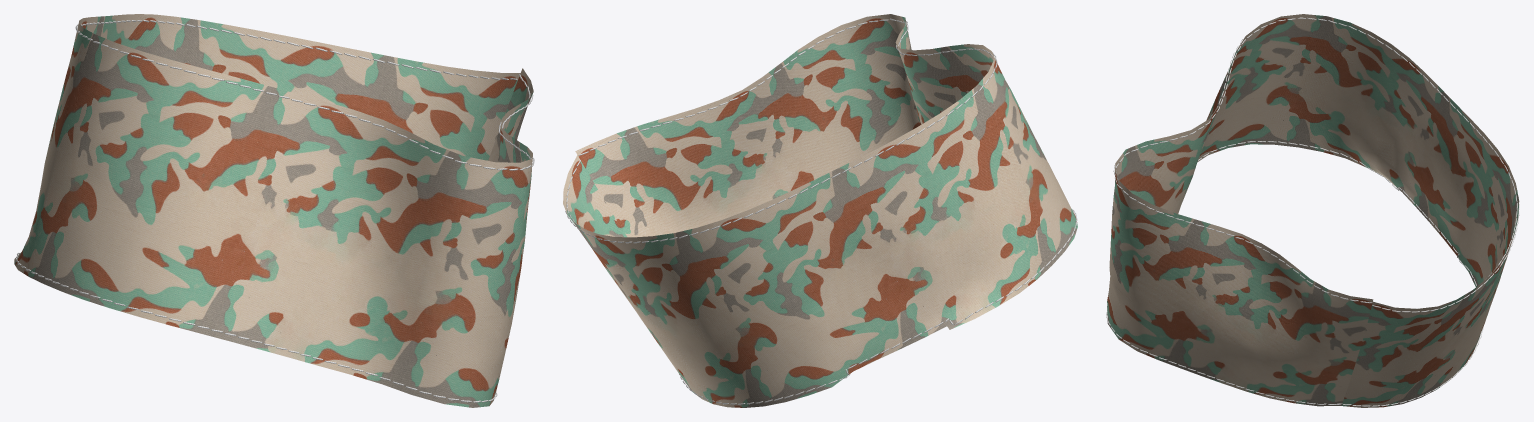
The model's file is sz2youxiuzhq.glb.
3 views of the same model, side by side, from view 1: azimuth 30°, elevation 25°; view 2: azimuth 150°, elevation 25°; view 3: azimuth 270°, elevation 25° (orthographic). The views are drawn at different scales.
Parts seen in each view (by area): view 1: sz2youxiuzhq, _1; view 2: sz2youxiuzhq, _1; view 3: sz2youxiuzhq, _1.
Part boxes in pixels (left/top/right/bottom): sz2youxiuzhq: left=14, top=14, right=533, bottom=407; _1: left=15, top=20, right=534, bottom=402; sz2youxiuzhq: left=563, top=14, right=1077, bottom=407; _1: left=565, top=18, right=1077, bottom=404; sz2youxiuzhq: left=1107, top=14, right=1519, bottom=407; _1: left=1106, top=17, right=1519, bottom=406.
Bounding box in the file's own units: 1.45 × 1.02 × 1.35.
2 materials, 2 textured.
